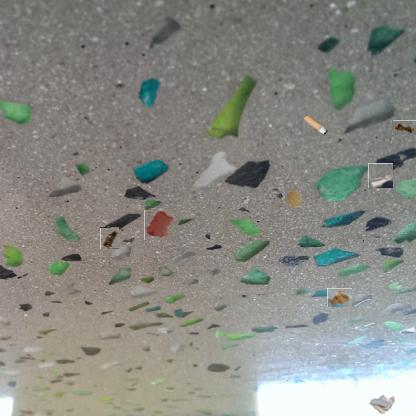dirty: (368, 392, 396, 416), (303, 112, 328, 138), (368, 163, 393, 188), (327, 288, 352, 307), (100, 228, 119, 250), (392, 120, 416, 135)
liquid: (144, 210, 173, 240), (285, 189, 305, 209)
